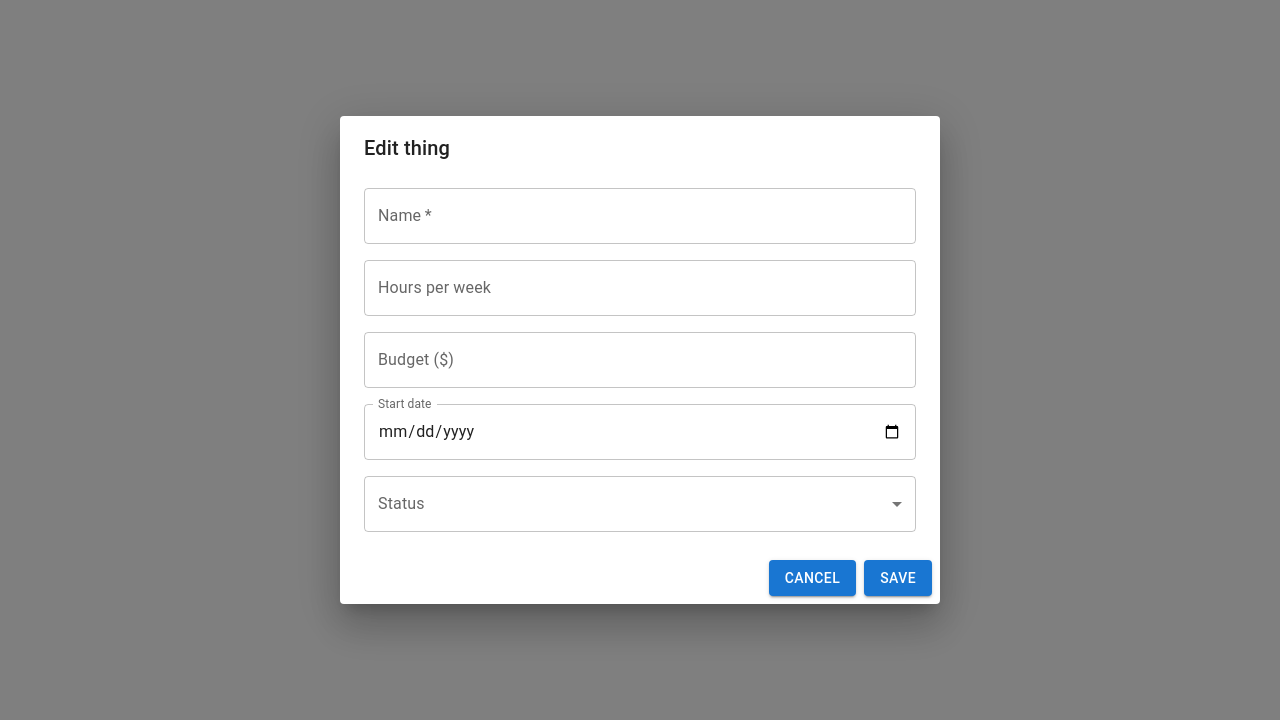
FormDialog › shows a money input that is not an amount as a field error, without submitting
Type "lots" into the field labelled "Budget ($)".
click(640, 360); type("lots")  # box [364,332,916,388]
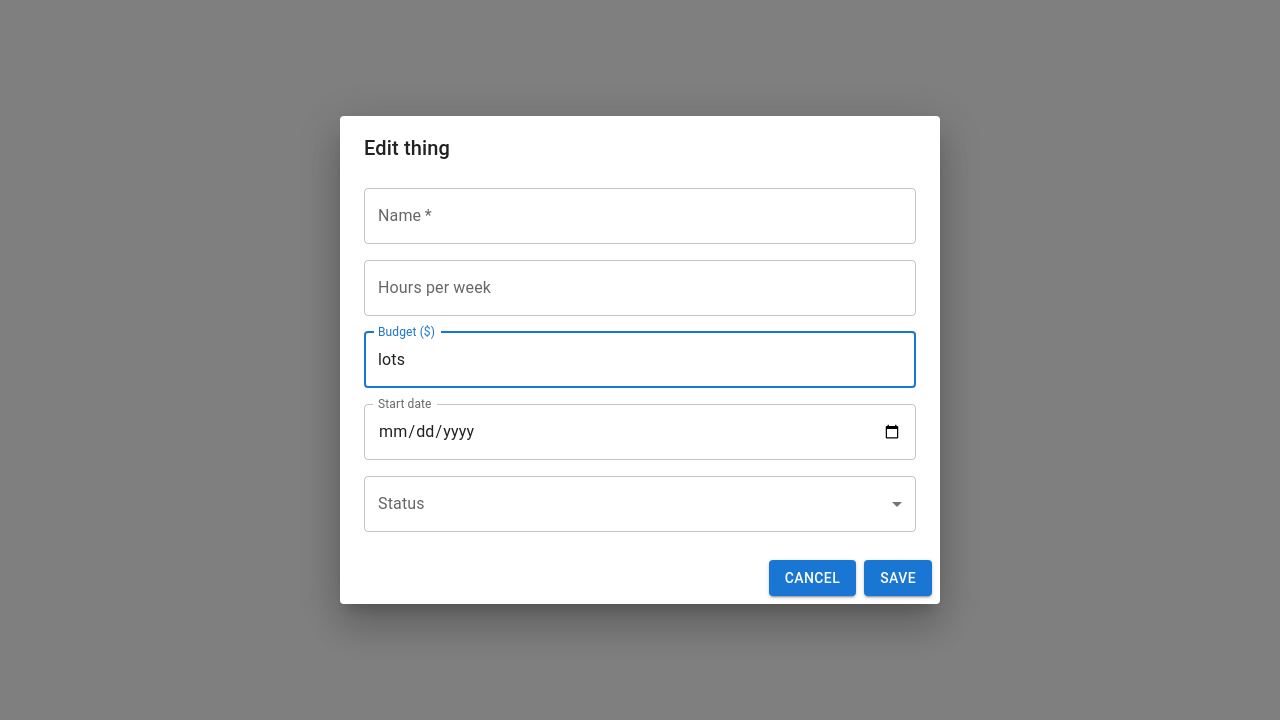
Click the button "Save".
click(898, 578)  # box [864,560,932,596]
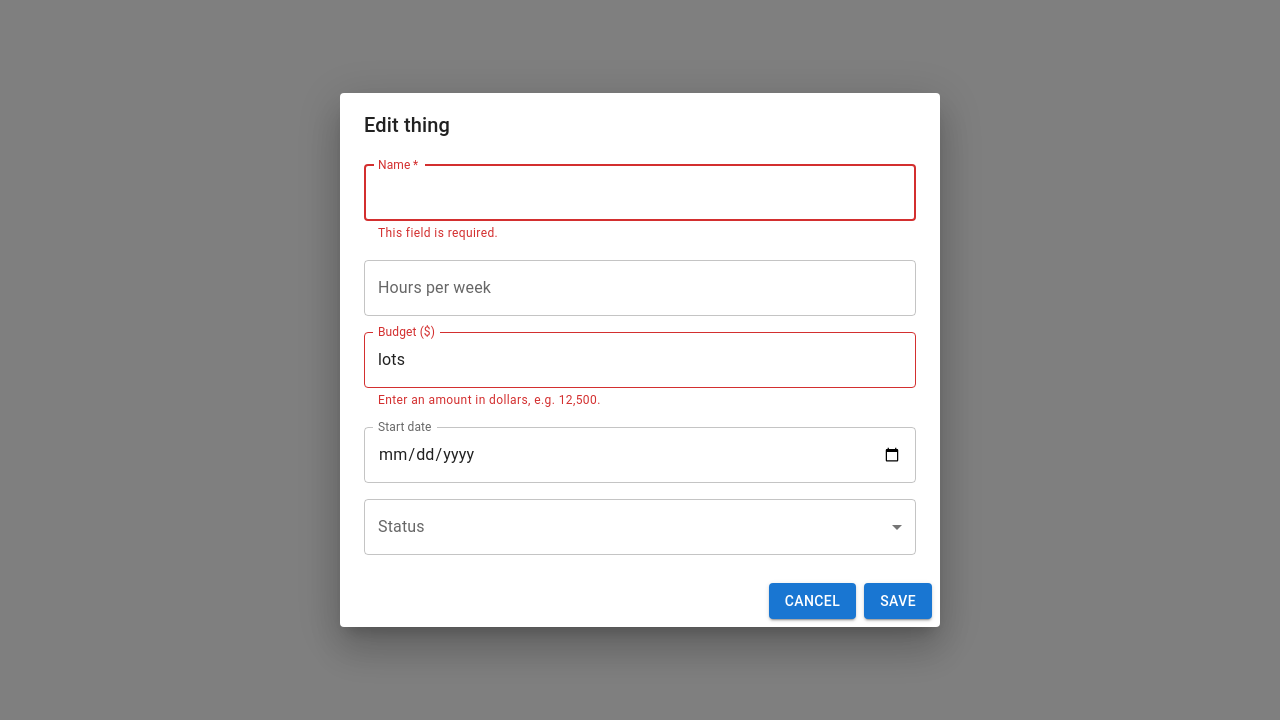
Expected: the text "Enter an amount in dollars, e.g. 12,500." is shown, [378,393,601,407]
